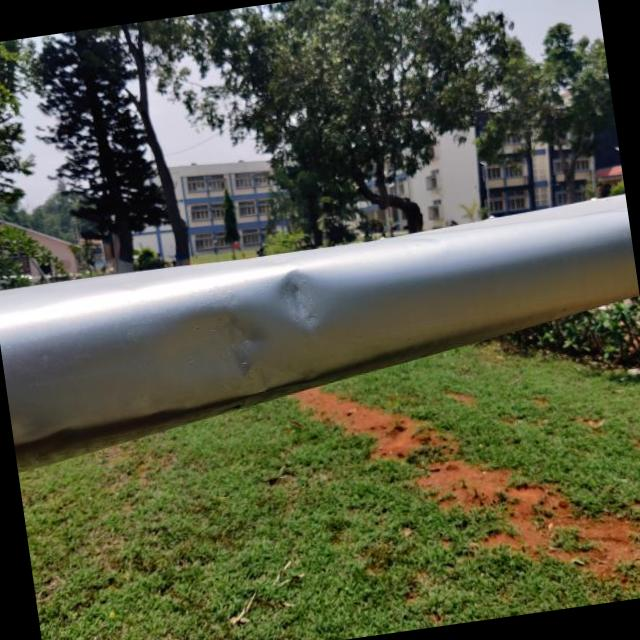Dent: (175, 313, 271, 409), (277, 270, 321, 332)
